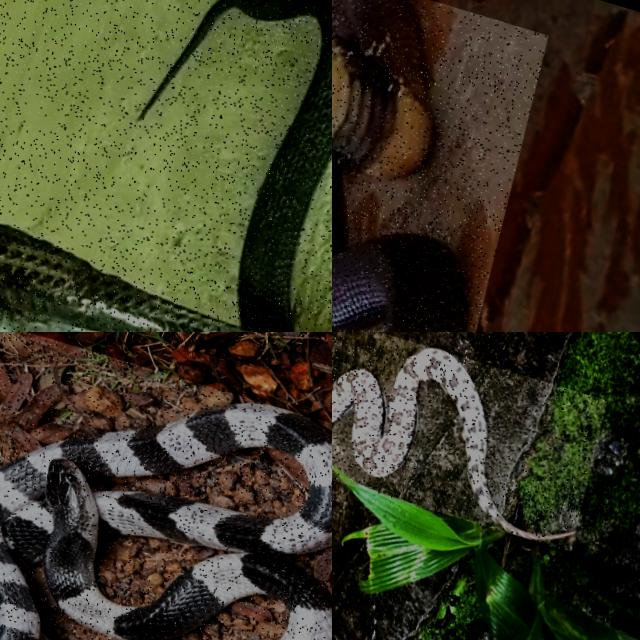Bungarus candidus: (0, 402, 331, 639)
Naja kaouthia: (332, 0, 432, 177)
Naja siamensis: (0, 0, 331, 331)
Ovophis monticola: (332, 347, 574, 541)
